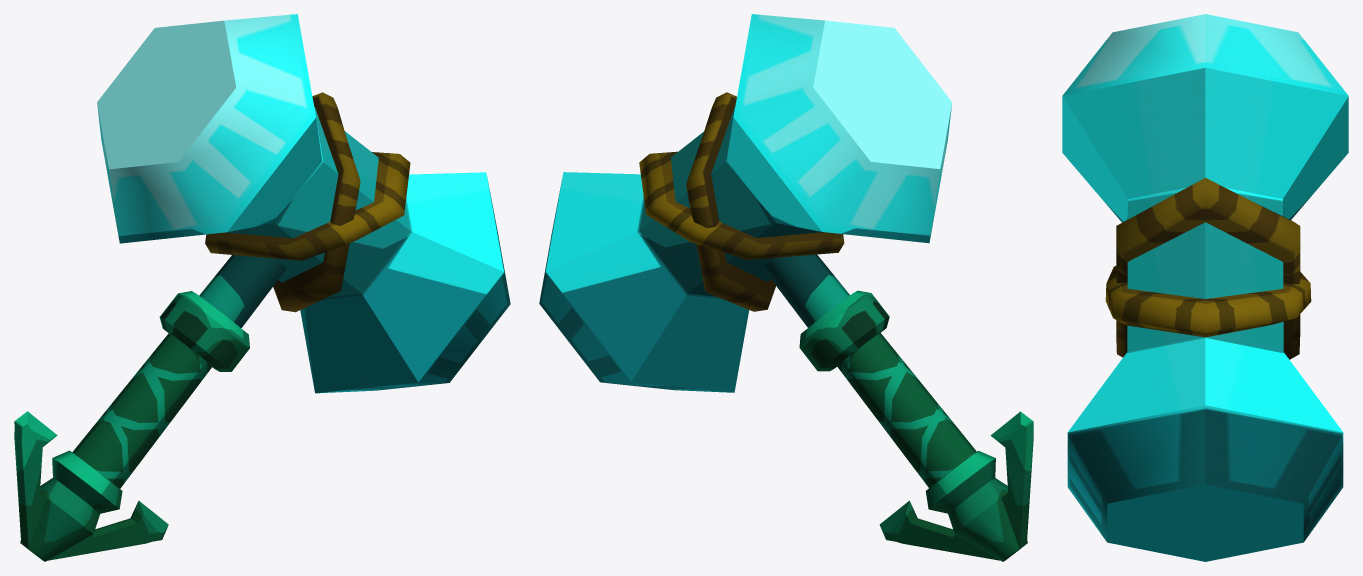
Rendered from pirate_04.FBX.
3 views of the same model, side by side, from view 1: azimuth 30°, elevation 25°; view 2: azimuth 150°, elevation 25°; view 3: azimuth 270°, elevation 25° (orthographic). The views are drawn at different scales.
Visible parts, largest first — view 1: pirate_04; view 2: pirate_04; view 3: pirate_04.
Part boxes in pixels (left/top/right/bottom): pirate_04: left=14, top=14, right=510, bottom=561; pirate_04: left=539, top=14, right=1033, bottom=561; pirate_04: left=1062, top=14, right=1348, bottom=561.
Bounding box in the file's own units: 73.58 × 73.47 × 33.19.
